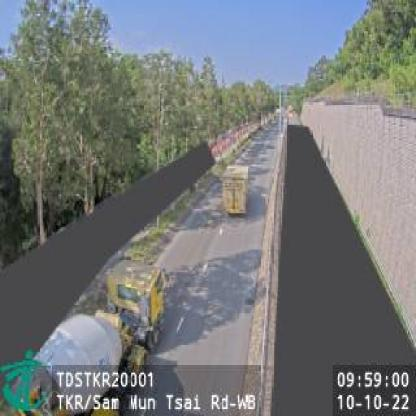Truck: (5, 258, 167, 416), (222, 158, 251, 216)
